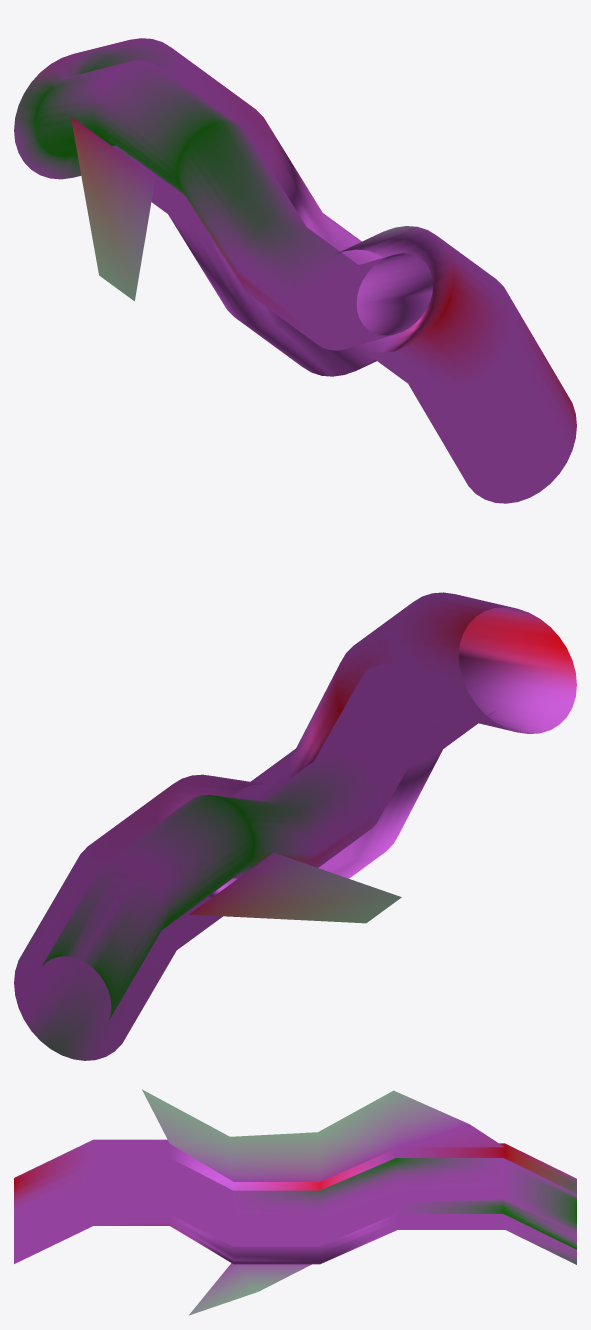
File: piper.glb
The picture shows the model from 3 angles, top to bottom: view 1: azimuth 30°, elevation 25°; view 2: azimuth 150°, elevation 25°; view 3: azimuth 270°, elevation 25°; orthographic projection. The views are drawn at different scales.
Visible parts, largest first — view 1: Piper; view 2: Piper; view 3: Piper.
Boxes of the visible parts, <box> form: Piper: <box>14,38,576,503</box>; Piper: <box>14,592,576,1060</box>; Piper: <box>14,1089,576,1315</box>.
Bounding box in the file's own units: 0.7354 × 0.9525 × 2.13.
